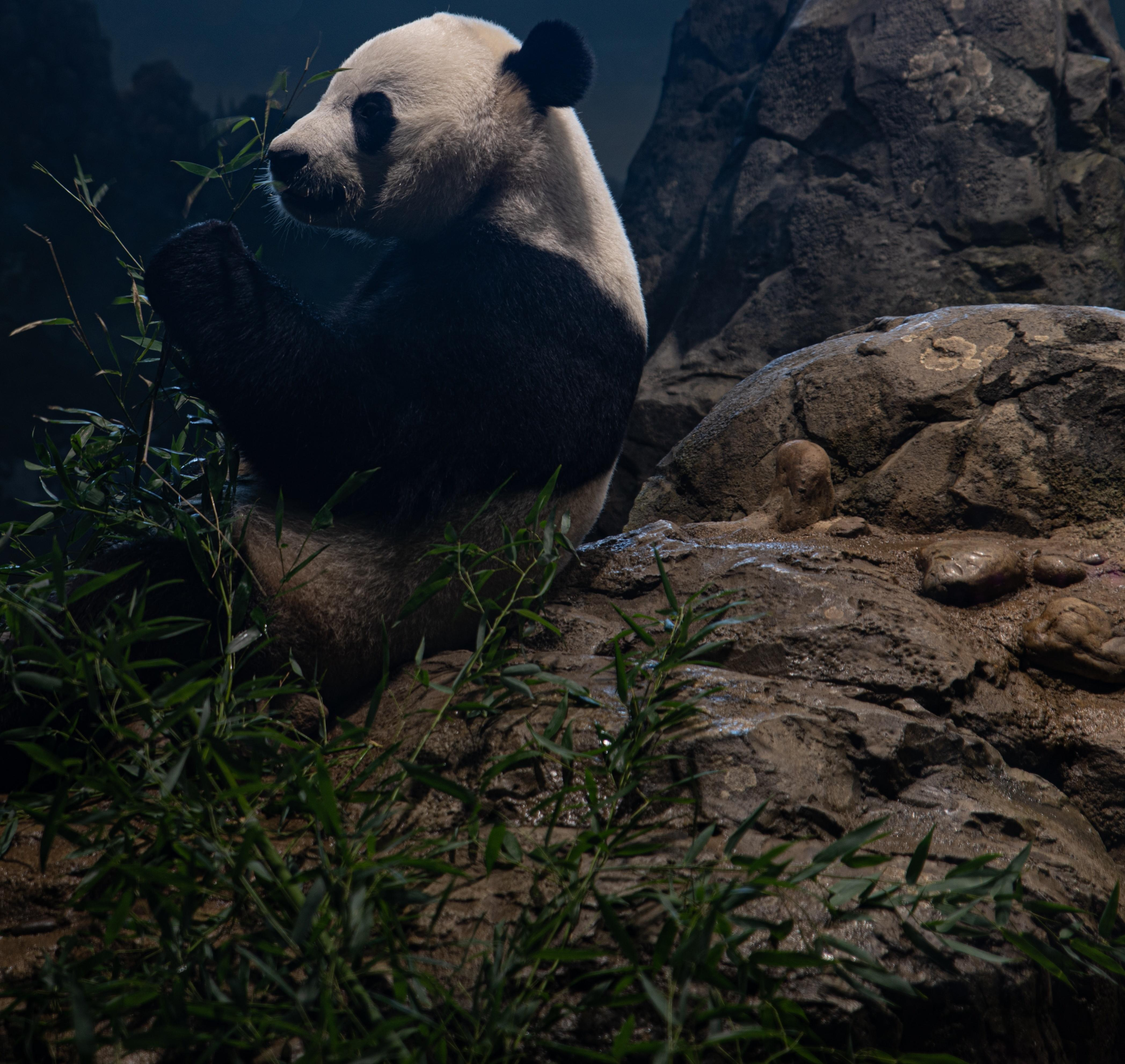panda: (147, 14, 658, 702)
